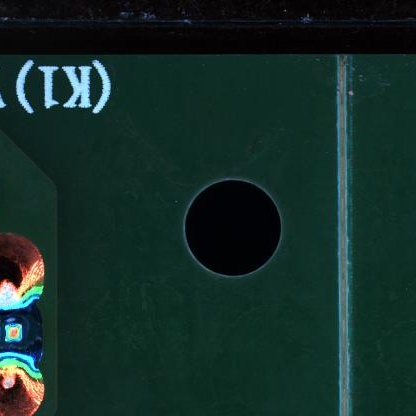spot: (1, 304, 43, 371)
